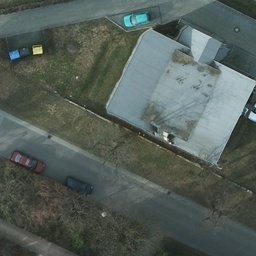car: (12, 151, 44, 173), (64, 175, 92, 200), (123, 10, 151, 28)
